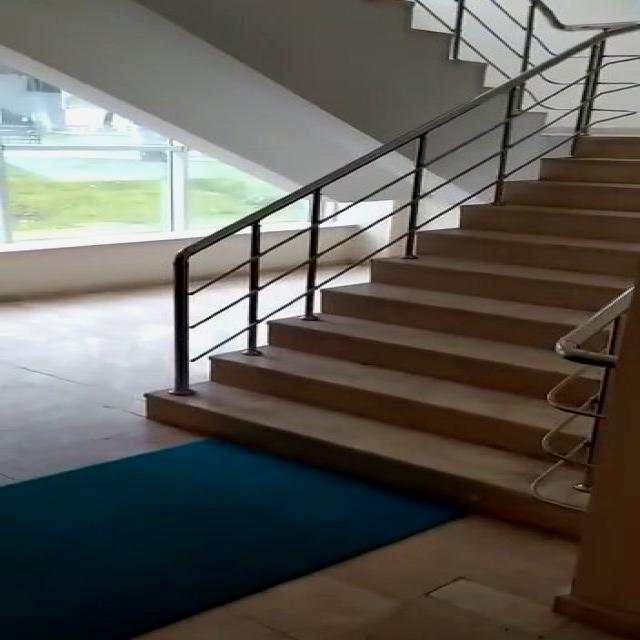stair: (108, 107, 640, 551)
